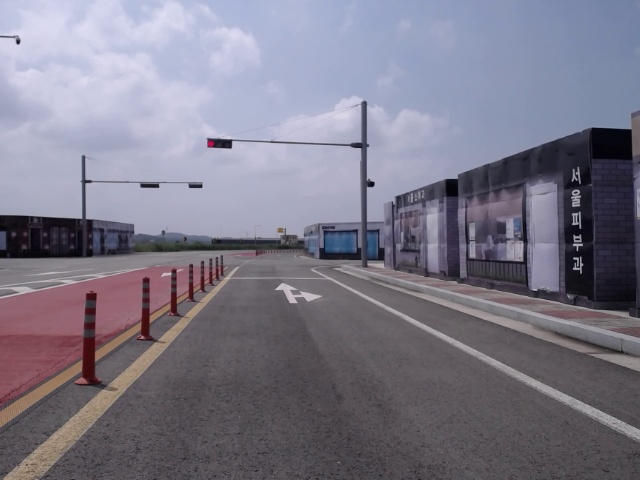red_3: (207, 139, 233, 148)
